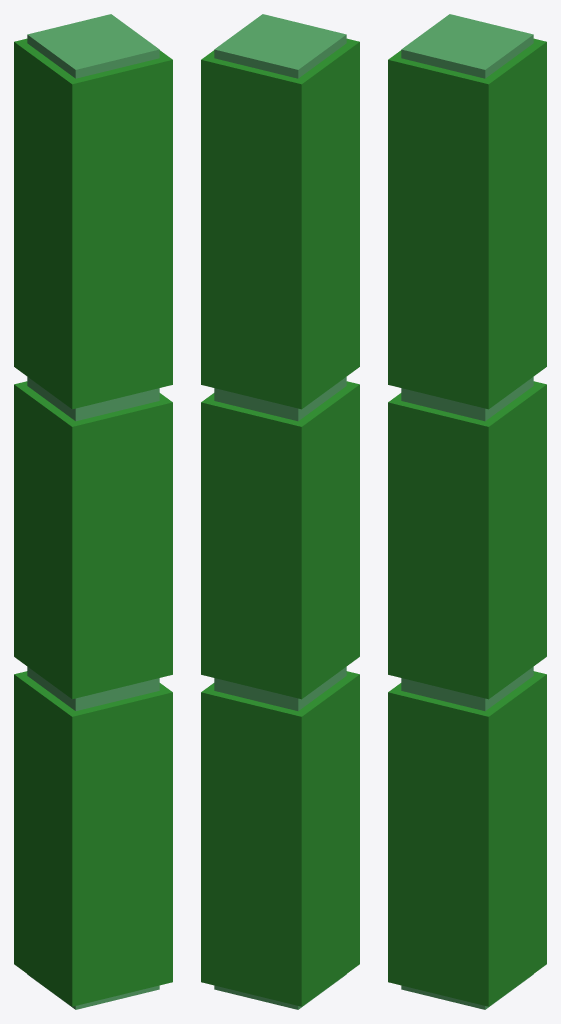
File: bamboo_pre.obj
3 renders of one model, left to right at view 1: azimuth 30°, elevation 25°; view 2: azimuth 150°, elevation 25°; view 3: azimuth 330°, elevation 25°, orthographic.
Size of the model in its own units: 1.2 by 10.7 by 1.2.
1 material, 1 textured.
